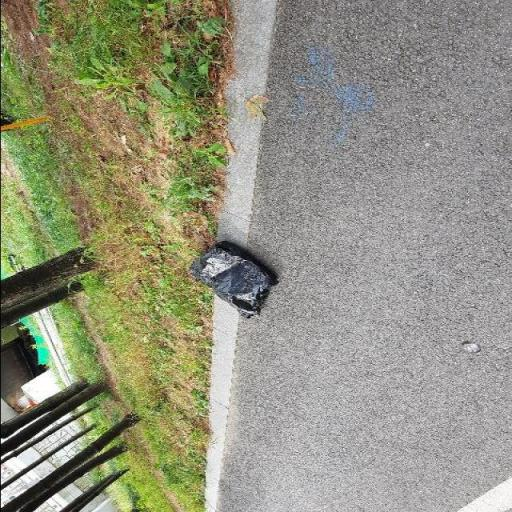plastic-bag: (186, 238, 280, 320)
